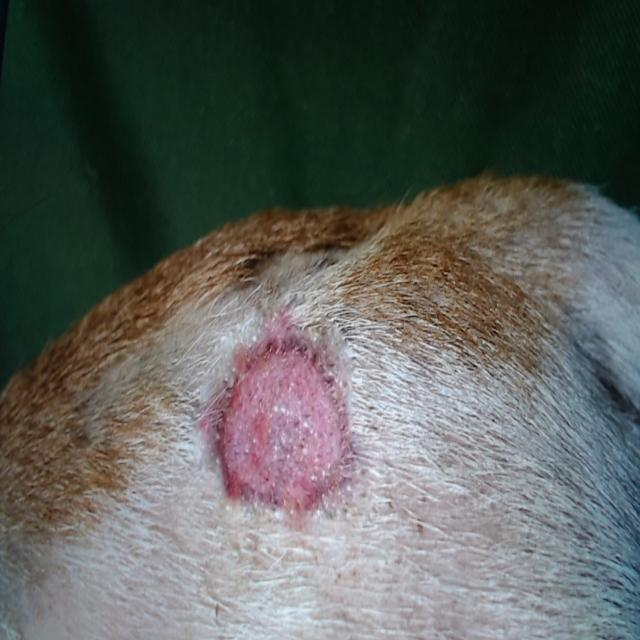ringworm: (206, 327, 365, 527)
